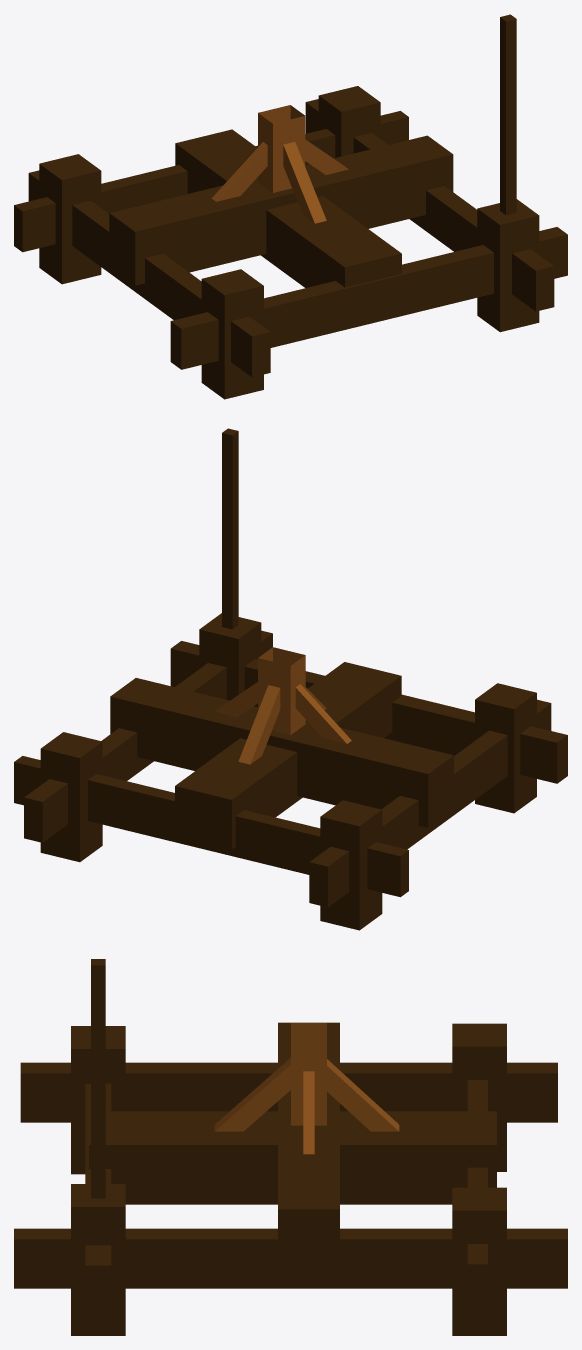
The model's file is ballistabase.fbx.
3 views of the same model, one above another, from view 1: azimuth 30°, elevation 25°; view 2: azimuth 150°, elevation 25°; view 3: azimuth 270°, elevation 25° (orthographic). The views are drawn at different scales.
Parts seen in each view (by area): view 1: polySurface102; view 2: polySurface102; view 3: polySurface102.
Boxes of the visible parts, left/top/right/bottom form: polySurface102: left=14, top=14, right=567, bottom=399; polySurface102: left=14, top=428, right=567, bottom=930; polySurface102: left=14, top=959, right=567, bottom=1335.
Size of the model in its own units: 98.71 by 73.49 by 102.
1 material, 1 textured.
